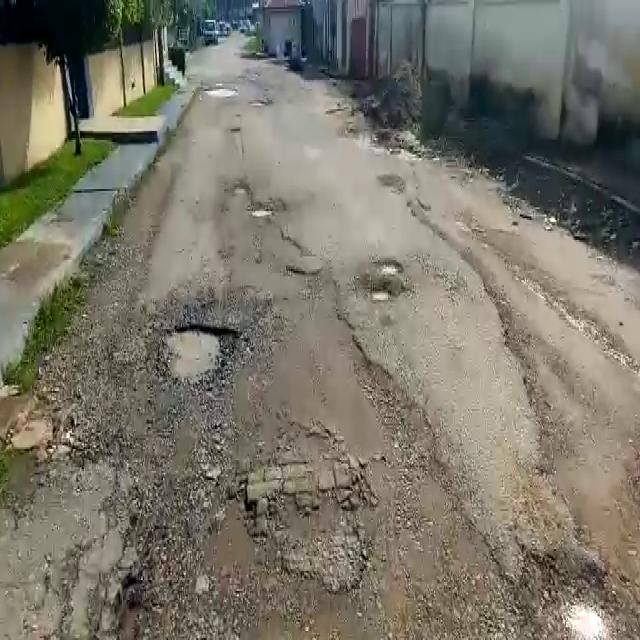Pothole: (160, 325, 242, 384), (381, 260, 403, 278), (250, 206, 273, 220), (372, 287, 390, 304), (232, 184, 246, 197)
